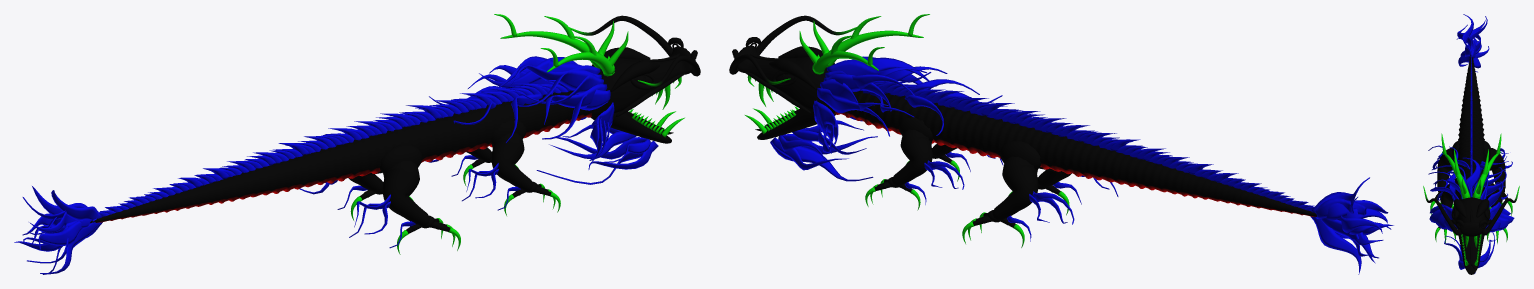
File: dragon200.glb
3 views of the same model, side by side, from view 1: azimuth 30°, elevation 25°; view 2: azimuth 150°, elevation 25°; view 3: azimuth 270°, elevation 25° (orthographic). The views are drawn at different scales.
Visible parts, largest first — view 1: d200-dragon; view 2: d200-dragon; view 3: d200-dragon.
Boxes of the visible parts, x1=… form: d200-dragon: x1=14, y1=14, x2=700, y2=274; d200-dragon: x1=729, y1=14, x2=1393, y2=274; d200-dragon: x1=1423, y1=14, x2=1519, y2=274.
Size of the model in its own units: 32 by 8.21 by 6.33.
